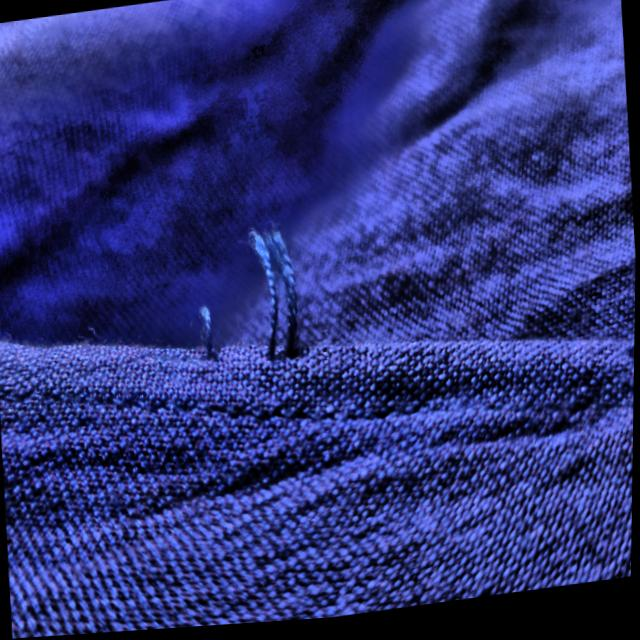Stitch: (164, 196, 393, 413)
